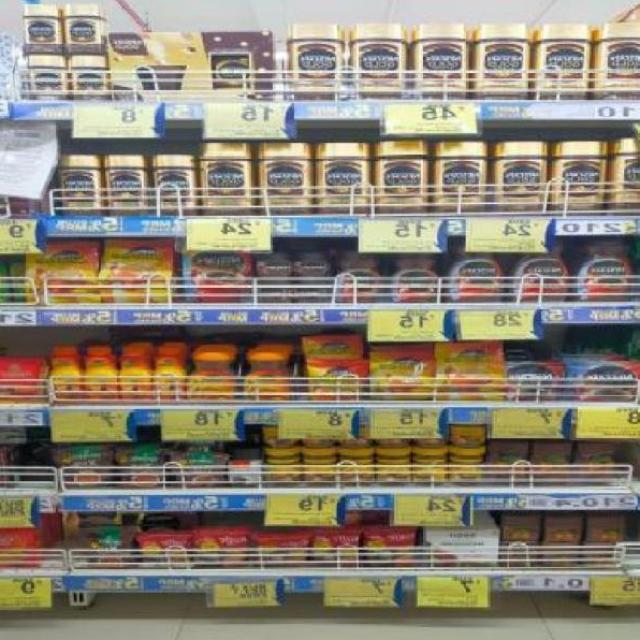Coffee: (25, 242, 99, 303), (103, 239, 172, 303), (181, 246, 252, 304), (435, 341, 503, 401), (508, 238, 569, 303), (576, 237, 634, 303), (555, 142, 605, 216), (447, 239, 504, 302), (377, 142, 425, 216), (419, 25, 466, 100), (356, 24, 402, 100), (318, 143, 367, 214), (541, 26, 588, 100), (480, 26, 527, 100), (292, 26, 339, 100), (496, 142, 543, 216), (202, 143, 249, 217), (439, 142, 486, 214), (264, 143, 311, 215), (369, 351, 433, 399), (601, 25, 640, 101), (390, 251, 440, 304), (242, 352, 293, 403), (337, 251, 386, 304), (573, 363, 639, 402), (186, 353, 235, 403), (108, 155, 147, 216), (309, 360, 367, 401), (155, 156, 192, 217), (62, 156, 99, 216), (505, 363, 563, 401), (613, 139, 640, 217), (49, 347, 81, 401), (23, 4, 58, 52), (66, 5, 99, 53), (86, 348, 115, 401), (120, 347, 149, 399), (155, 348, 183, 401), (30, 55, 62, 101), (72, 57, 104, 101), (295, 251, 332, 277), (296, 278, 333, 304), (254, 279, 291, 303), (254, 253, 290, 277)
